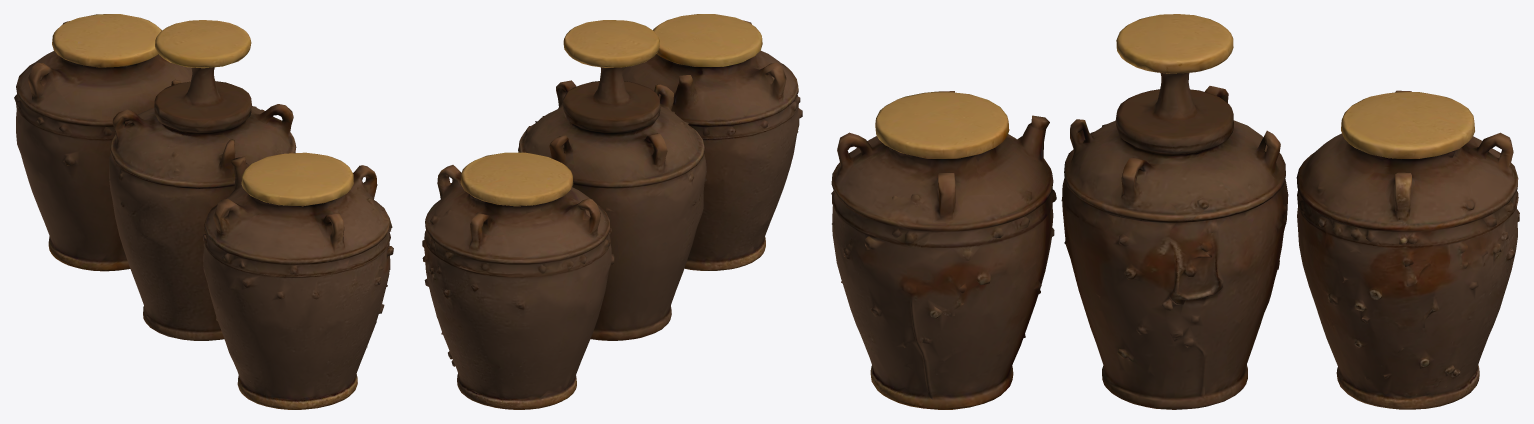
File: v-vats.glb
3 views of the same model, side by side, from view 1: azimuth 30°, elevation 25°; view 2: azimuth 150°, elevation 25°; view 3: azimuth 270°, elevation 25° (orthographic). The views are drawn at different scales.
Visible parts, largest first — view 1: tripo_node_6a3d3d01-7a5e-4531-9eaf-9c1a3d498684; view 2: tripo_node_6a3d3d01-7a5e-4531-9eaf-9c1a3d498684; view 3: tripo_node_6a3d3d01-7a5e-4531-9eaf-9c1a3d498684.
Part boxes in pixels (left/top/right/bottom): tripo_node_6a3d3d01-7a5e-4531-9eaf-9c1a3d498684: left=14, top=14, right=393, bottom=409; tripo_node_6a3d3d01-7a5e-4531-9eaf-9c1a3d498684: left=422, top=14, right=802, bottom=409; tripo_node_6a3d3d01-7a5e-4531-9eaf-9c1a3d498684: left=831, top=14, right=1519, bottom=409.
Bounding box in the file's own units: 0.3444 × 0.5553 × 1.
Materials: 1 (1 with a texture image).
